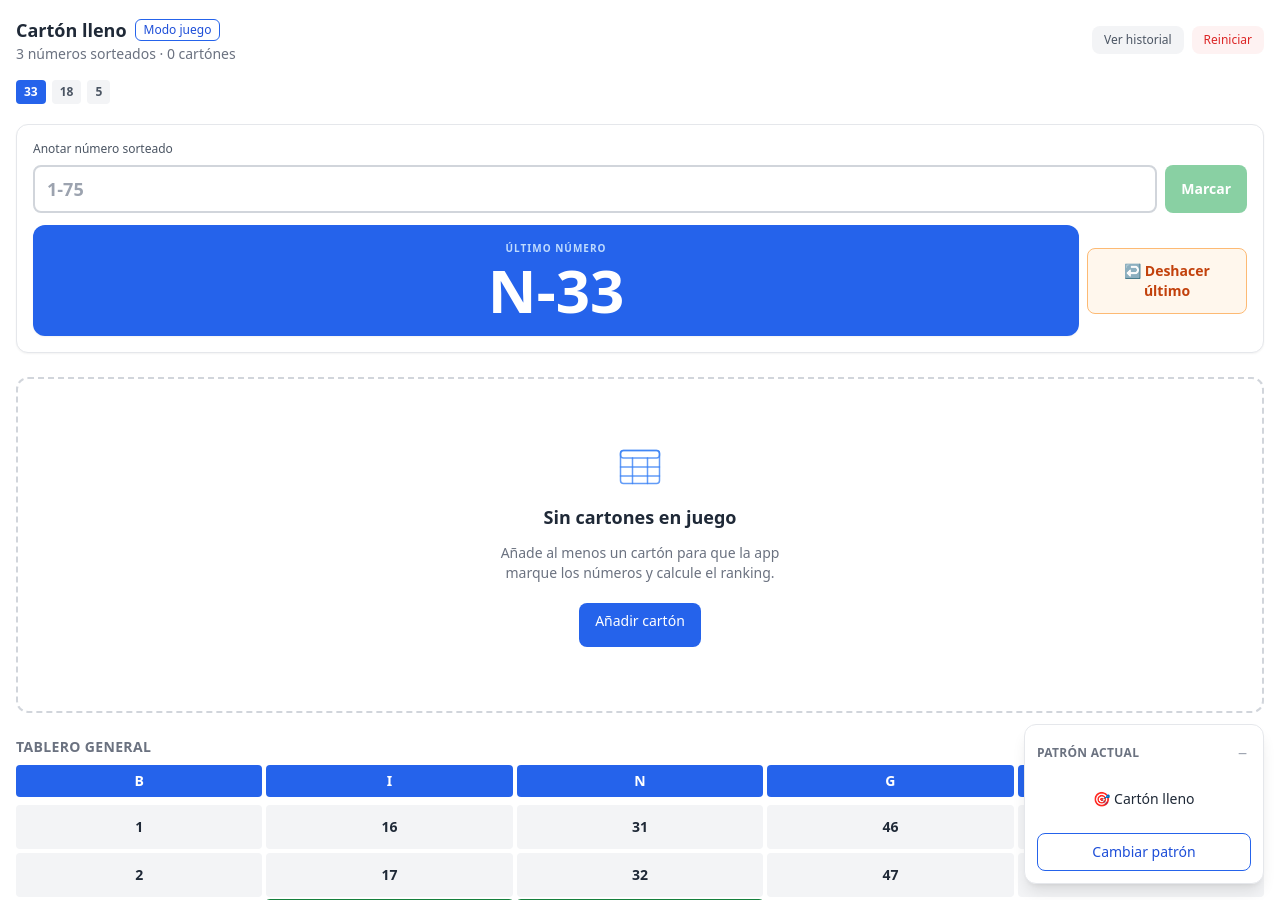
Scenario: Jugar › botón Ver historial abre modal con historial agrupado
Click the button "Ver historial" at [1138, 40], box [1092, 26, 1184, 54]
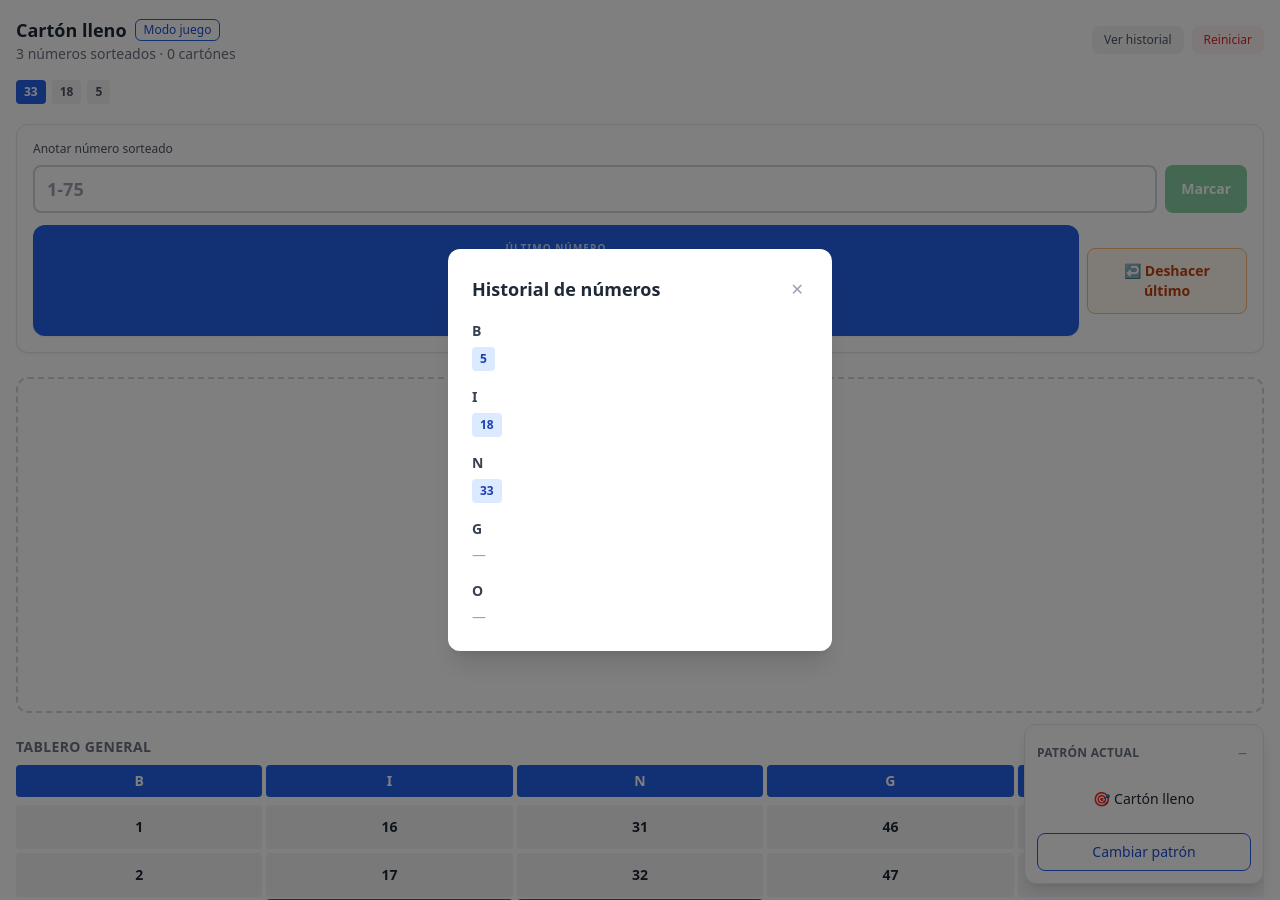
Check: the dialog is shown
Check: the heading "B" is shown, box [472, 321, 481, 340]
Check: the heading "I" is shown, box [472, 387, 478, 406]
